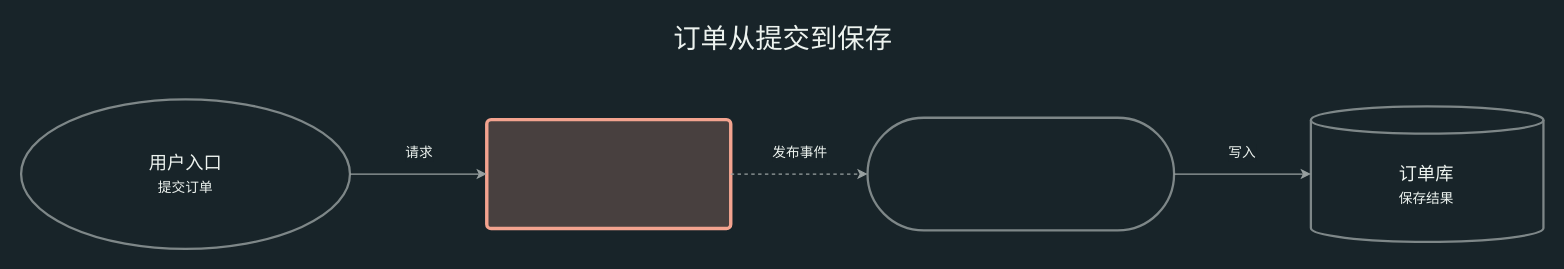
This 1564x269 diagram has some shape labels left out. Here are the shapes that lost their labels. From the top down, the centre of each, then its label:
the point at 608,173: 订单服务 校验请求
the point at 1020,173: 事件队列 异步处理
